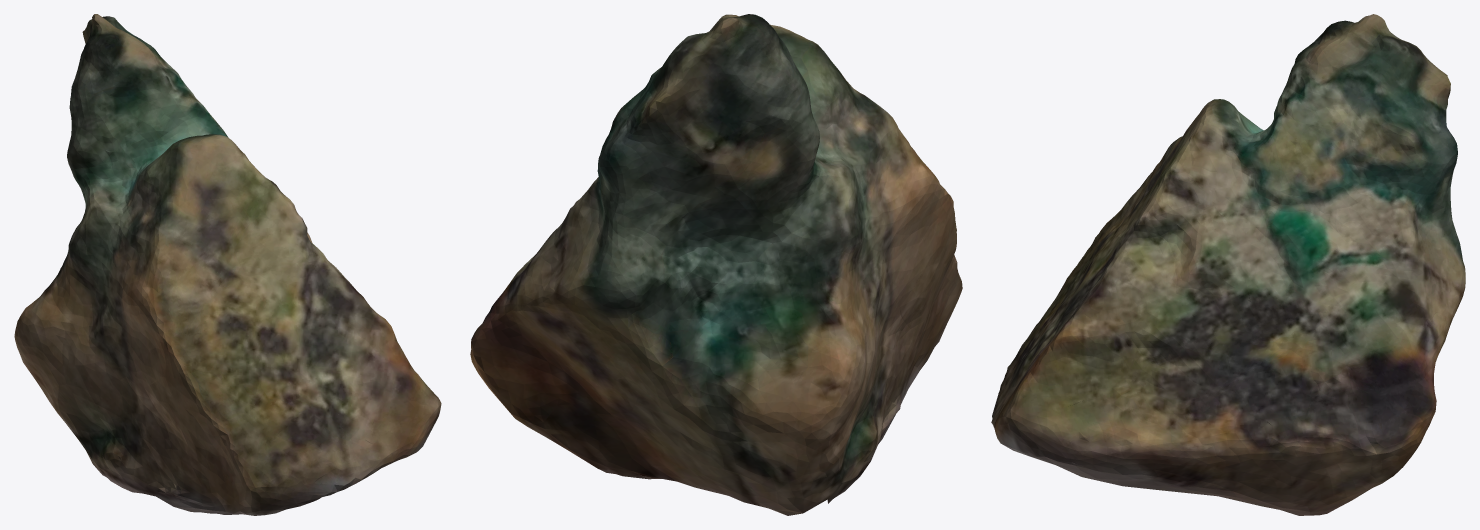
3 views of the same model, side by side, from view 1: azimuth 30°, elevation 25°; view 2: azimuth 150°, elevation 25°; view 3: azimuth 270°, elevation 25° (orthographic). The views are drawn at different scales.
Bounding box in the file's own units: 0.0328 × 0.0464 × 0.0448.
Materials: 1 (1 with a texture image).
